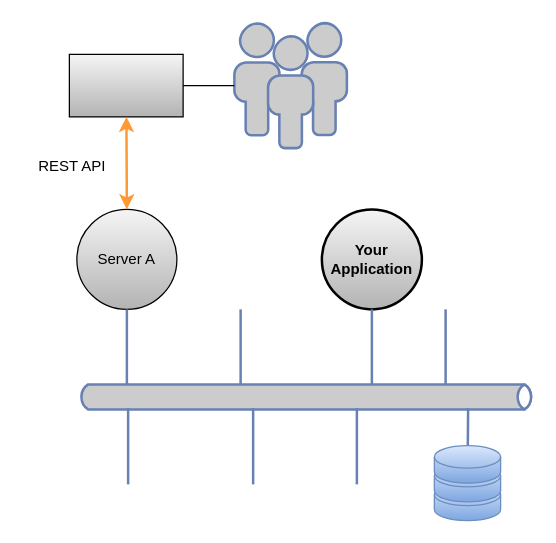
This 556x543 diagram has some shape labels left out. The shapes that lost their labels are listed below. From the top down, each one's box as (x1, y1, x2, y2) in pixels, then its label:
(68, 53, 183, 117): Browser
(76, 382, 535, 410): Message Bus
